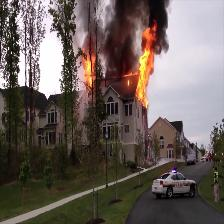fire: (137, 32, 156, 104), (88, 55, 101, 85)
smoke: (104, 4, 134, 74), (140, 3, 168, 28)
